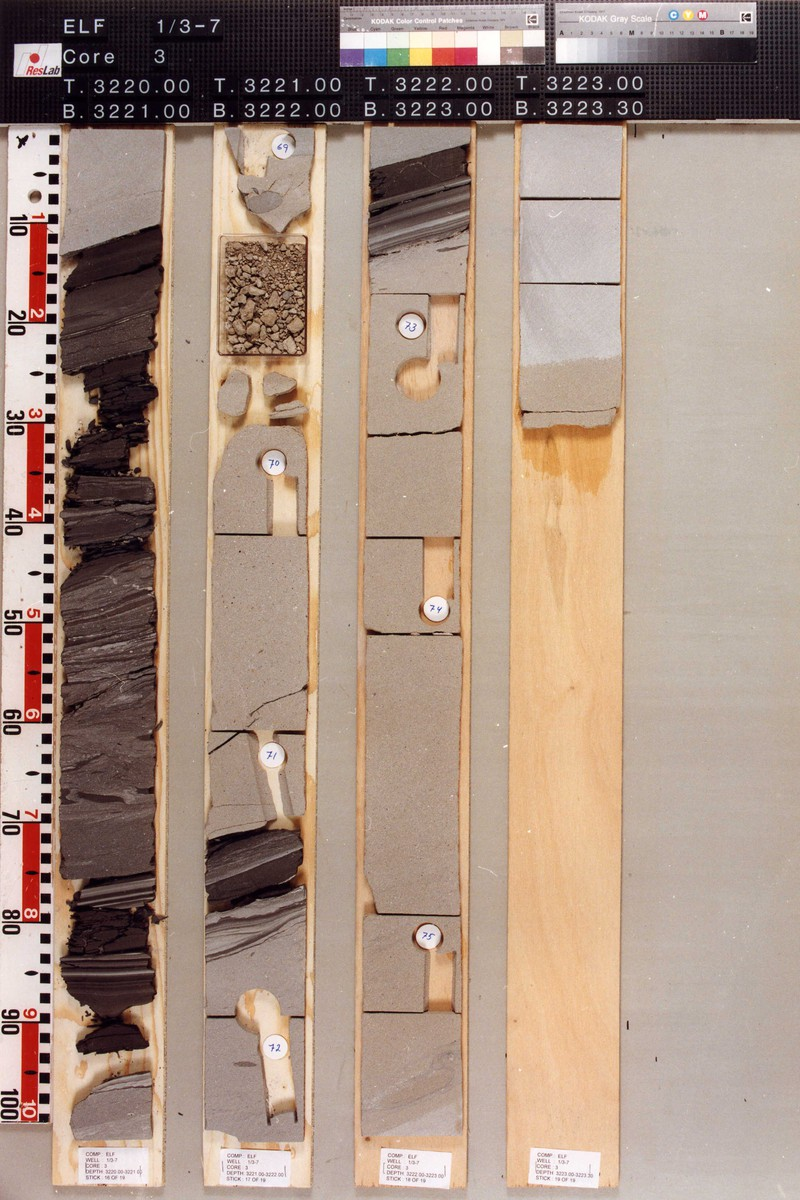core: (360, 126, 471, 1150), (203, 126, 309, 1140), (62, 131, 163, 1143), (518, 126, 621, 431)
